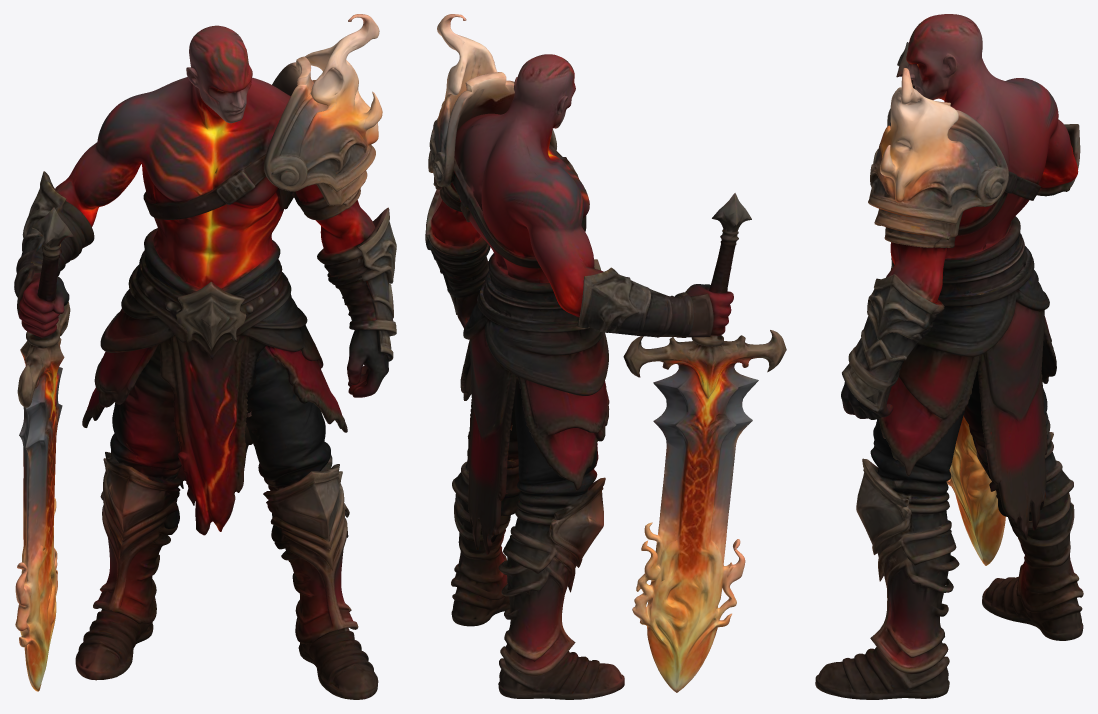
Rendered from hero_m_4.glb.
3 views of the same model, side by side, from view 1: azimuth 30°, elevation 25°; view 2: azimuth 150°, elevation 25°; view 3: azimuth 270°, elevation 25° (orthographic). The views are drawn at different scales.
Parts seen in each view (by area): view 1: node_0; view 2: node_0; view 3: node_0.
Boxes of the visible parts, left/top/right/bottom form: node_0: left=14, top=14, right=396, bottom=699; node_0: left=425, top=14, right=786, bottom=699; node_0: left=815, top=14, right=1083, bottom=699.
Bounding box in the file's own units: 0.6429 × 1.04 × 0.4003.
Materials: 1 (1 with a texture image).
